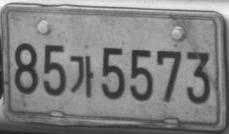3: (185, 51, 210, 104)
5: (100, 46, 125, 100), (129, 49, 154, 101), (42, 44, 66, 96)
7: (156, 50, 182, 102)
8: (13, 42, 39, 95)
가: (69, 54, 93, 98)
